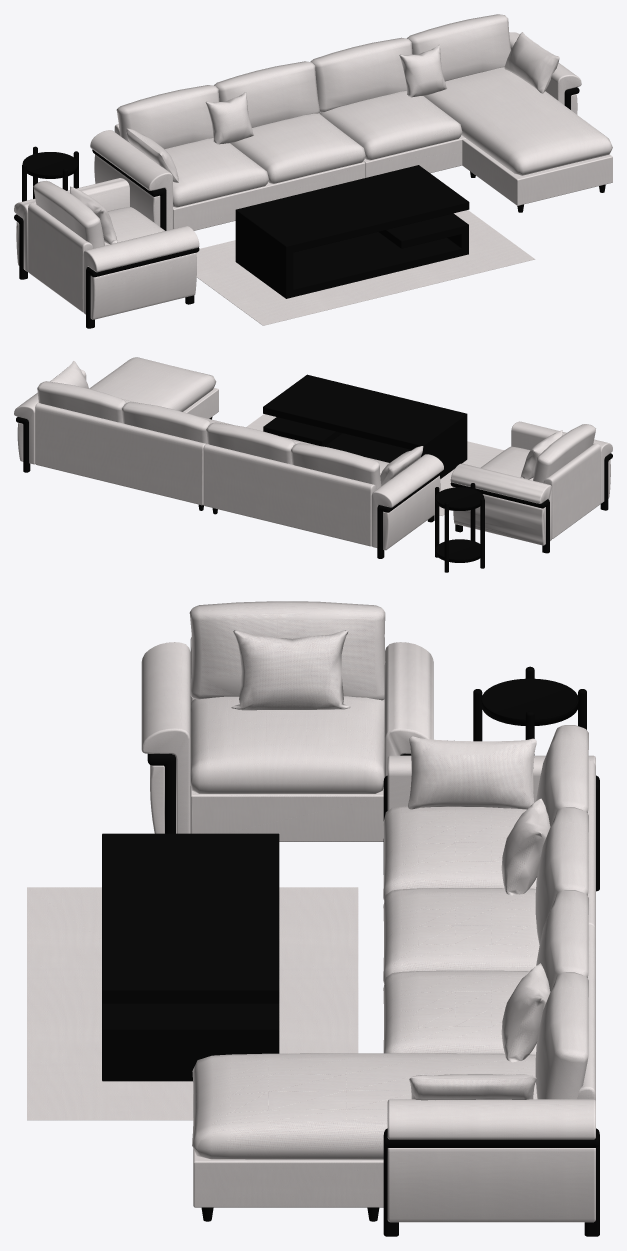
Rendered from Sofa.fbx.
3 views of the same model, one above another, from view 1: azimuth 30°, elevation 25°; view 2: azimuth 150°, elevation 25°; view 3: azimuth 270°, elevation 25° (orthographic). The views are drawn at different scales.
Visible parts, largest first — view 1: Sofa, Table, SingleSofa, Plane, Object; view 2: Sofa, SingleSofa, Table, Object, Plane; view 3: Sofa, SingleSofa, Table, Plane, Object.
Part boxes in pixels (x1,y1,x2,y2): Sofa: [90, 14, 612, 230]; Table: [235, 165, 469, 298]; SingleSofa: [14, 178, 199, 328]; Plane: [196, 210, 535, 325]; Object: [22, 146, 78, 201]; Sofa: [14, 357, 443, 558]; SingleSofa: [450, 421, 612, 553]; Table: [263, 374, 467, 478]; Object: [435, 483, 484, 572]; Plane: [246, 414, 503, 515]; Sofa: [192, 725, 599, 1236]; SingleSofa: [141, 601, 433, 841]; Table: [102, 833, 279, 1081]; Plane: [27, 887, 358, 1120]; Object: [473, 666, 586, 755].
Bounding box in the file's own units: 17658 × 3115 × 8976.
Materials: 2 (1 with a texture image).
